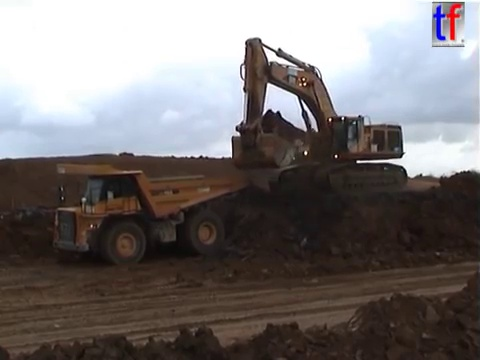excavator: (229, 35, 411, 198)
truck: (45, 160, 247, 266), (116, 150, 135, 167)
